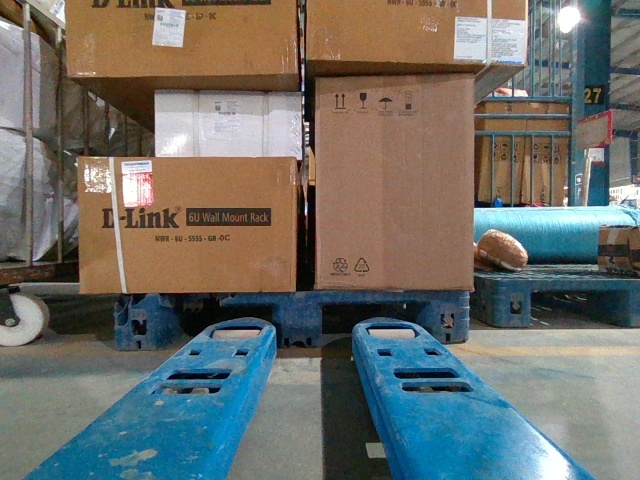block: (113, 292, 169, 348), (420, 289, 474, 342), (274, 291, 322, 348), (496, 279, 533, 325)
front: (112, 290, 471, 352)
hole pallet: (320, 301, 424, 353), (162, 304, 274, 350), (531, 289, 623, 328)
